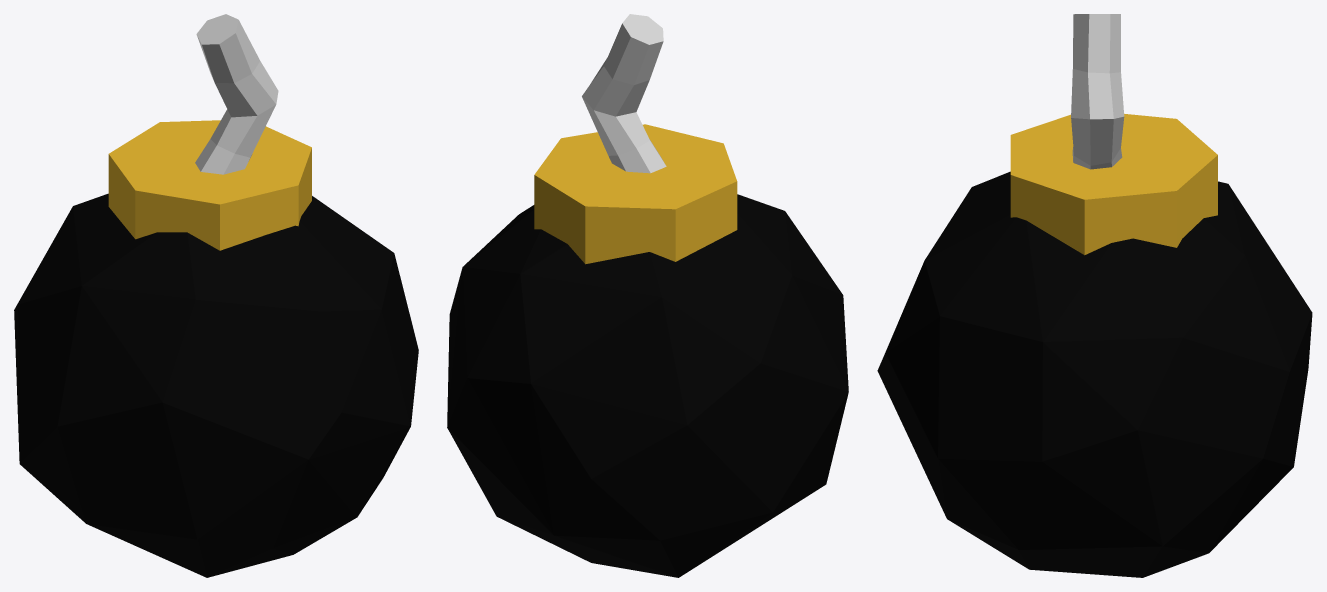
The model's file is bomb.fbx.
The picture shows the model from 3 angles, left to right: view 1: azimuth 30°, elevation 25°; view 2: azimuth 150°, elevation 25°; view 3: azimuth 270°, elevation 25°; orthographic projection. The views are drawn at different scales.
Visible parts, largest first — view 1: Icosphere, Cylinder, Cylinder.001; view 2: Icosphere, Cylinder, Cylinder.001; view 3: Icosphere, Cylinder, Cylinder.001.
Boxes of the visible parts, x1,y1,x2,y2 form: Icosphere: (14,193,418,577); Cylinder: (108,120,311,250); Cylinder.001: (195,14,278,174); Icosphere: (447,194,848,577); Cylinder: (534,124,737,264); Cylinder.001: (582,14,666,173); Icosphere: (877,171,1312,577); Cylinder: (1010,113,1217,255); Cylinder.001: (1071,14,1124,169).
Size of the model in its own units: 50.98 by 72.77 by 51.48.
